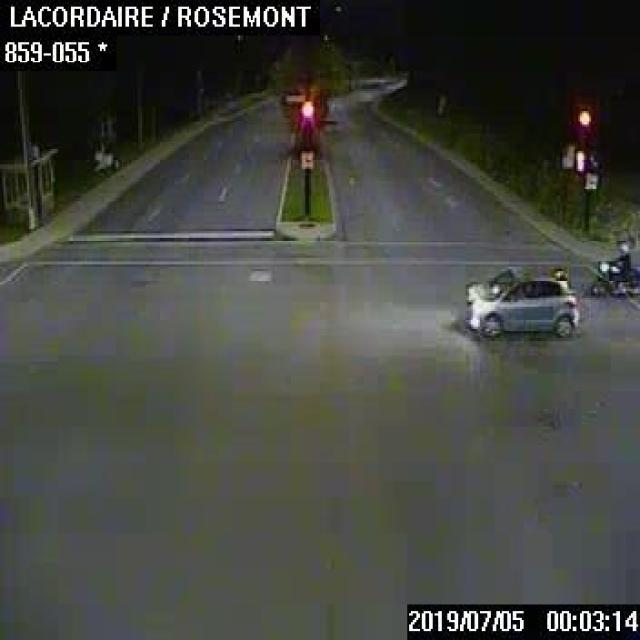vehicle: (460, 267, 580, 338), (587, 238, 638, 298)
